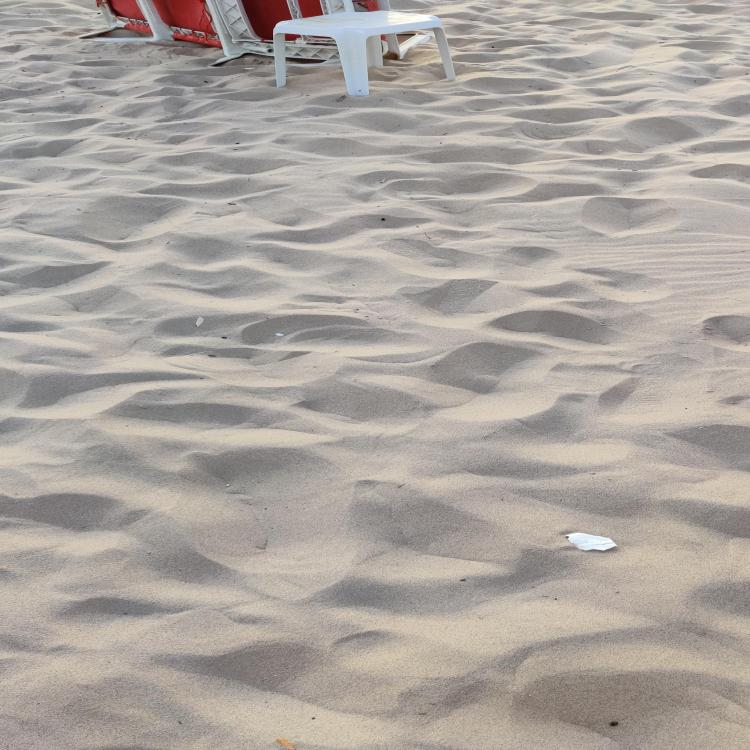Cigarette: (276, 738, 296, 749)
Plastic film: (565, 533, 618, 551)
Unlabeled litter: (196, 318, 204, 326), (276, 334, 284, 336)
